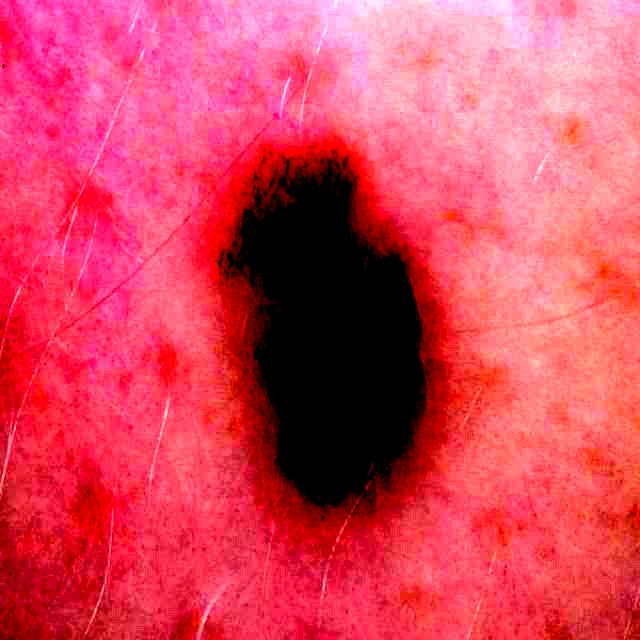NV: (220, 151, 426, 504)
